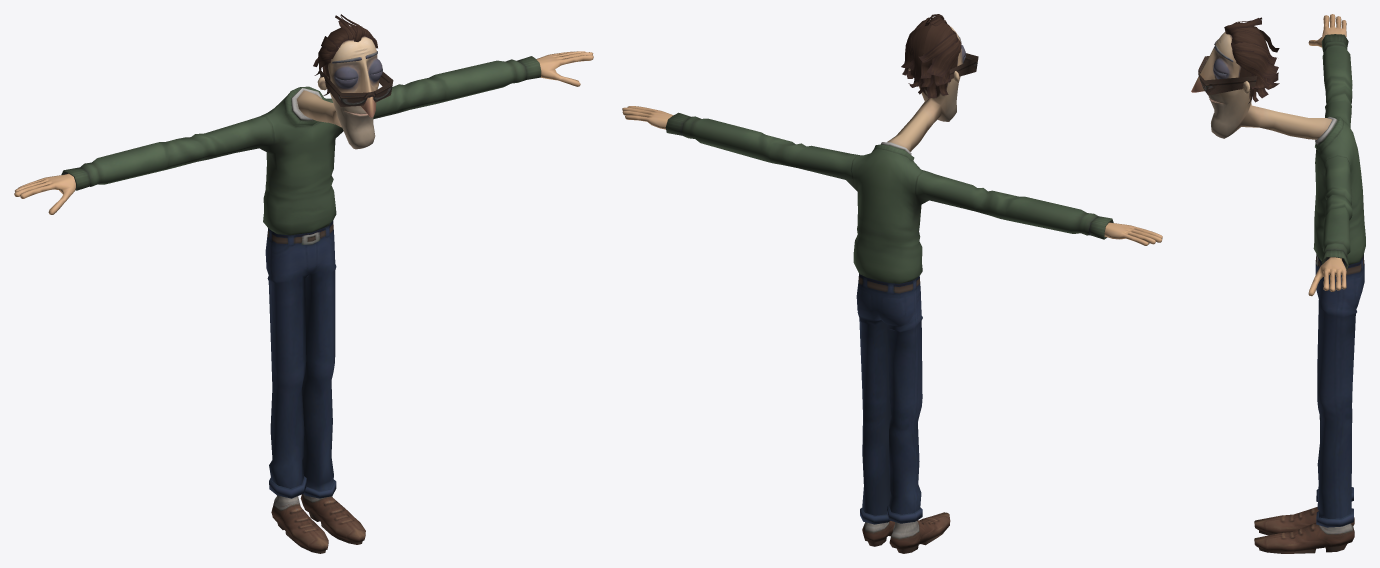
Rendered from papa.gltf.
3 views of the same model, side by side, from view 1: azimuth 30°, elevation 25°; view 2: azimuth 150°, elevation 25°; view 3: azimuth 270°, elevation 25° (orthographic). The views are drawn at different scales.
Parts seen in each view (by area): view 1: mesh_0_003-material, mesh_1_003-material, mesh_3_002-material; view 2: mesh_0_003-material, mesh_1_003-material, mesh_3_002-material; view 3: mesh_0_003-material, mesh_1_003-material, mesh_3_002-material.
Boxes of the visible parts, x1,y1,x2,y2 form: mesh_0_003-material: [61, 56, 541, 553]; mesh_1_003-material: [14, 36, 593, 214]; mesh_3_002-material: [313, 14, 377, 95]; mesh_0_003-material: [665, 53, 1113, 553]; mesh_1_003-material: [622, 26, 1162, 245]; mesh_3_002-material: [901, 14, 961, 98]; mesh_0_003-material: [1198, 34, 1365, 553]; mesh_1_003-material: [1191, 14, 1346, 296]; mesh_3_002-material: [1224, 17, 1279, 102].
Size of the model in its own units: 16.5 by 14.61 by 4.43.
Materials: 4 (4 with a texture image).
